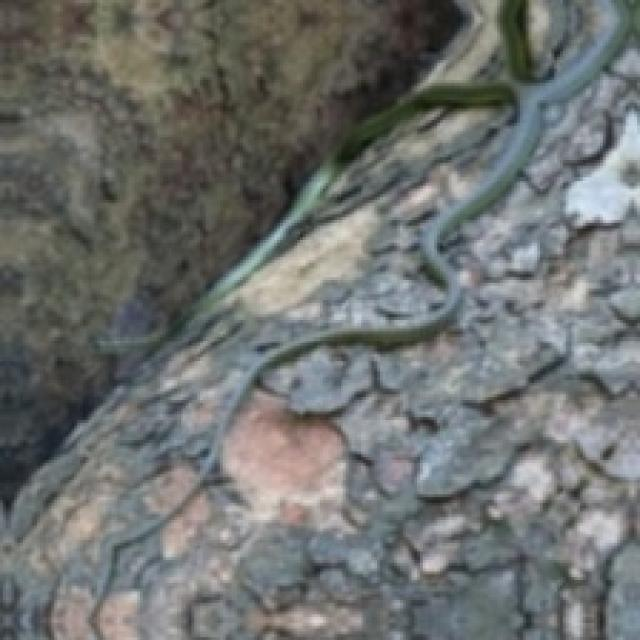paradise tree snake: (206, 0, 637, 637), (231, 100, 520, 326), (437, 0, 603, 100)
